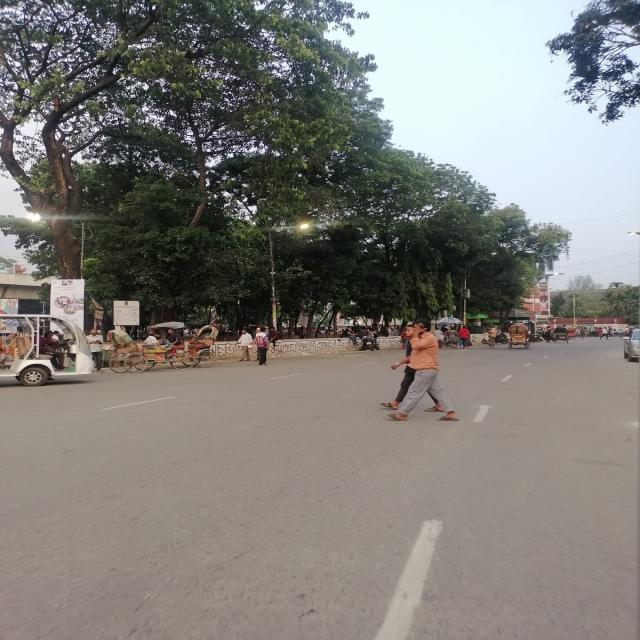person: (388, 320, 458, 421), (379, 324, 443, 412)
